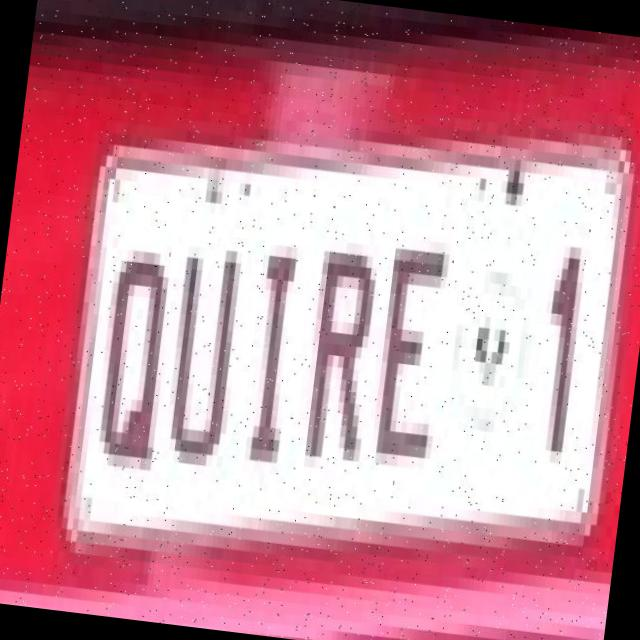LicensePlate: (43, 124, 640, 601)
